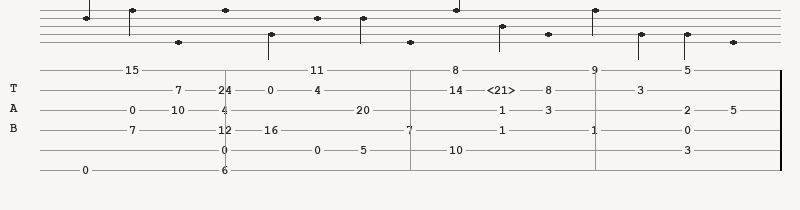0: (82, 164, 93, 176), (129, 104, 140, 116), (221, 144, 232, 156), (267, 84, 278, 96), (314, 144, 325, 156), (684, 124, 695, 136)
1: (499, 104, 510, 116), (499, 124, 510, 136), (591, 124, 602, 136)
10: (171, 104, 189, 116), (449, 144, 467, 156)
11: (310, 64, 328, 76)
12: (218, 124, 236, 136)
14: (449, 84, 467, 96)
15: (125, 64, 143, 76)
16: (264, 124, 282, 136)
2: (684, 104, 695, 116)
20: (356, 104, 374, 116)
24: (218, 84, 236, 96)
3: (545, 104, 556, 116), (637, 84, 648, 96), (684, 144, 695, 156)
4: (221, 104, 232, 116), (314, 84, 325, 96)
5: (360, 144, 371, 156), (684, 64, 695, 76), (730, 104, 741, 116)
6: (221, 164, 232, 176)
7: (129, 124, 140, 136), (175, 84, 186, 96), (406, 124, 417, 136)
8: (452, 64, 463, 76), (545, 84, 556, 96)
9: (591, 64, 602, 76)
harmonic: (487, 84, 521, 96)
